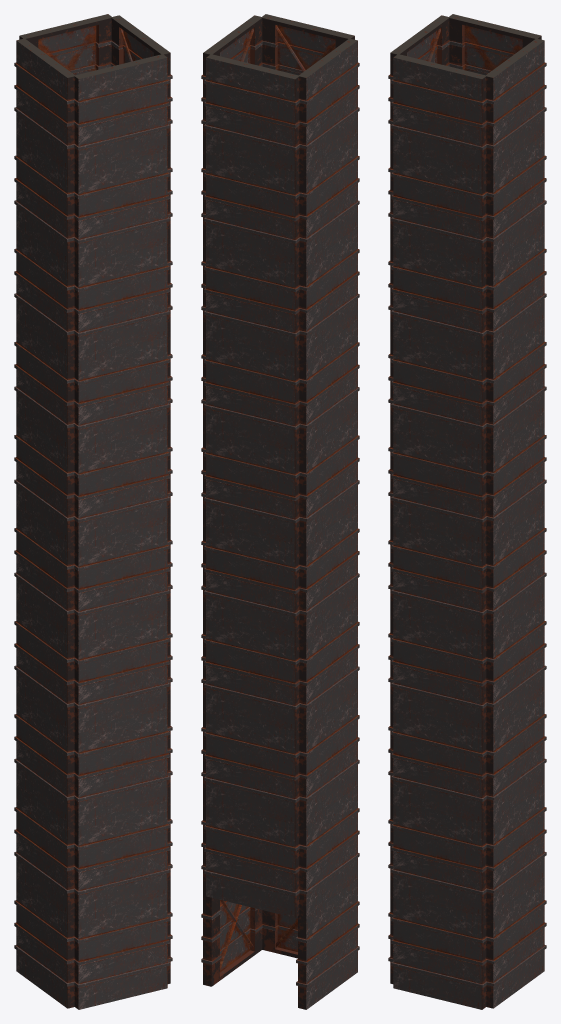
Rendered from Elevator Walls.fbx.
The picture shows the model from 3 angles, left to right: view 1: azimuth 30°, elevation 25°; view 2: azimuth 150°, elevation 25°; view 3: azimuth 330°, elevation 25°; orthographic projection.
Parts seen in each view (by area): view 1: Elevator Walls; view 2: Elevator Walls; view 3: Elevator Walls.
Part boxes in pixels (x1,y1,x2,y2): Elevator Walls: [14, 14, 172, 1009]; Elevator Walls: [201, 14, 359, 1009]; Elevator Walls: [388, 14, 546, 1009].
Size of the model in its own units: 356 by 3000 by 356.
1 material, 1 textured.
